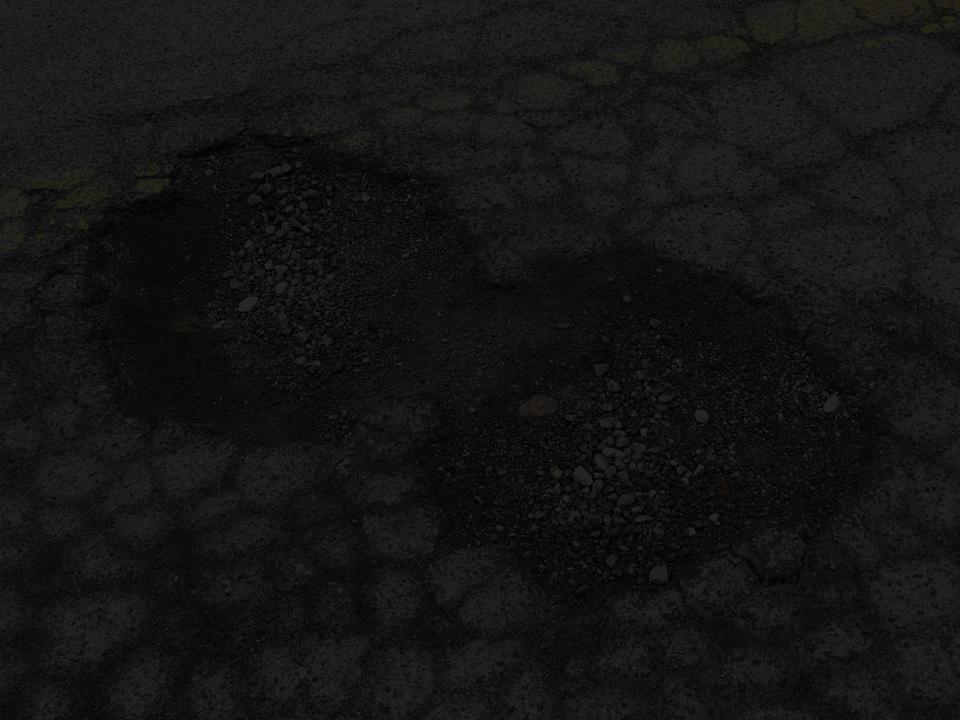pothole: (372, 225, 897, 591), (82, 97, 493, 435)
